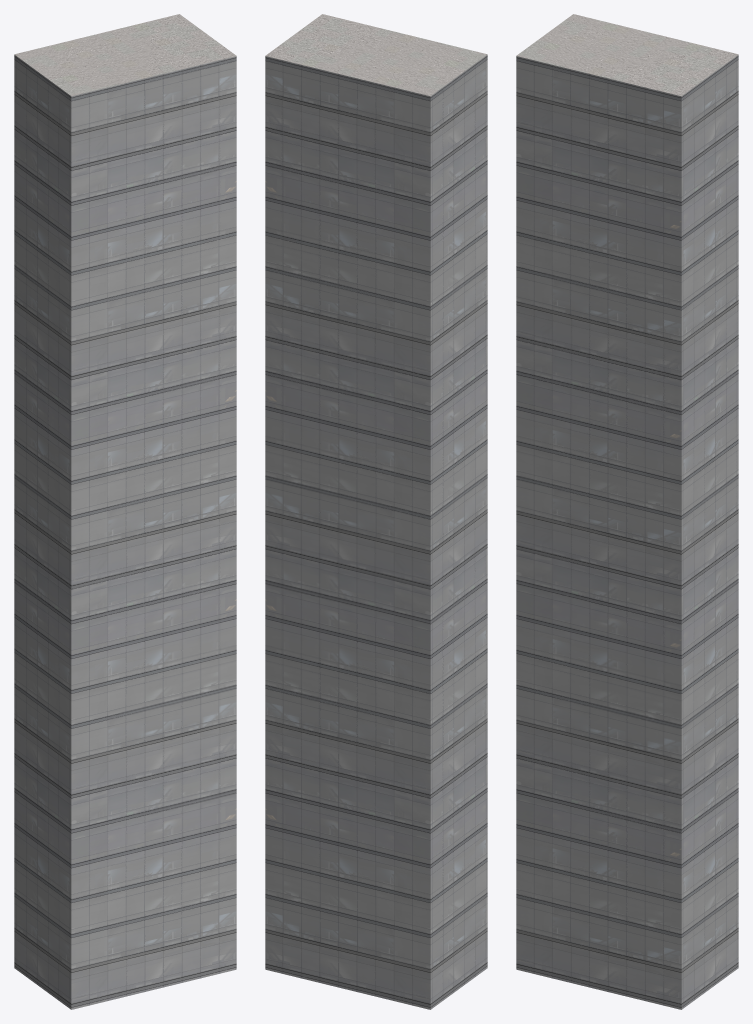
3 renders of one model, left to right at view 1: azimuth 30°, elevation 25°; view 2: azimuth 150°, elevation 25°; view 3: azimuth 330°, elevation 25°, orthographic.
Parts seen in each view (by area): view 1: building29, building29_cell.001, building29_cell, building29_cell.002, building29_cell.003; view 2: building29, building29_cell.001, building29_cell.002, building29_cell, building29_cell.003; view 3: building29, building29_cell.003, building29_cell.001, building29_cell, building29_cell.002.
Boxes of the visible parts, x1=… form: building29: x1=14, y1=21, x2=236, y2=1009; building29_cell.001: x1=14, y1=595, x2=236, y2=1009; building29_cell: x1=14, y1=287, x2=236, y2=612; building29_cell.002: x1=14, y1=22, x2=149, y2=351; building29_cell.003: x1=96, y1=14, x2=236, y2=319; building29: x1=265, y1=35, x2=487, y2=1009; building29_cell.001: x1=265, y1=569, x2=487, y2=1009; building29_cell.002: x1=294, y1=36, x2=487, y2=351; building29_cell: x1=265, y1=206, x2=487, y2=560; building29_cell.003: x1=265, y1=14, x2=410, y2=213; building29: x1=516, y1=14, x2=738, y2=1009; building29_cell.003: x1=544, y1=47, x2=738, y2=325; building29_cell.001: x1=516, y1=606, x2=738, y2=1009; building29_cell: x1=516, y1=199, x2=738, y2=652; building29_cell.002: x1=516, y1=14, x2=708, y2=309.
Bounding box in the file's own units: 2.25 × 11.88 × 1.35.
2 materials, 2 textured.
